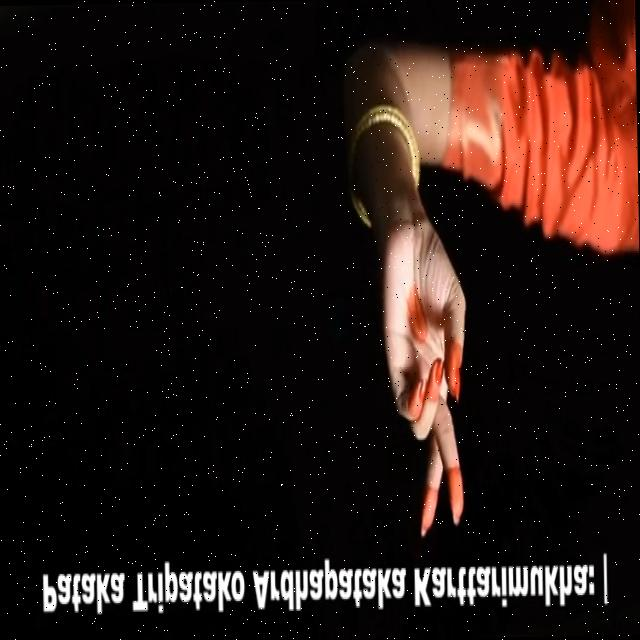Kartarimukha: (365, 217, 482, 548)
bangle: (335, 92, 423, 216)
text: (32, 544, 617, 630)
